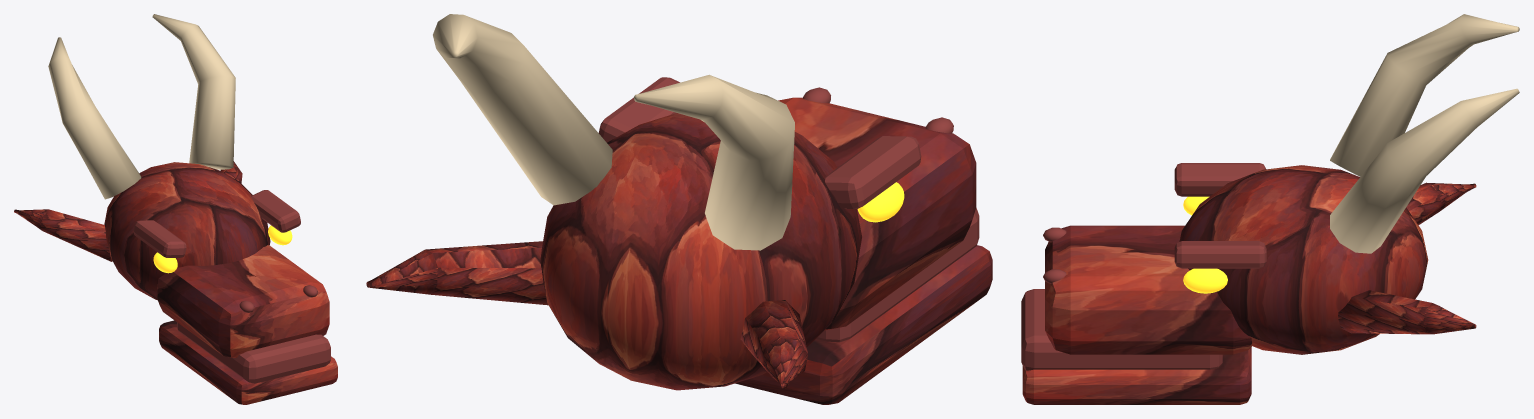
File: dragon_head.glb
The picture shows the model from 3 angles, left to right: view 1: azimuth 30°, elevation 25°; view 2: azimuth 150°, elevation 25°; view 3: azimuth 270°, elevation 25°; orthographic projection. The views are drawn at different scales.
Parts seen in each view (by area): view 1: Sculpted dragon skull, Rounded long muzzle, Curled broad ivory horn.001, Curled broad ivory horn, Rounded lower jaw, Open dark mouth, Swept jaw frill, Strong dragon brow.001, Strong dragon brow, Fiery almond dragon eye, Fiery almond dragon eye.001; view 2: Sculpted dragon skull, Rounded long muzzle, Curled broad ivory horn.001, Curled broad ivory horn, Rounded lower jaw, Swept jaw frill.001, Strong dragon brow, Swept jaw frill, Open dark mouth, Strong dragon brow.001, Fiery almond dragon eye; view 3: Sculpted dragon skull, Rounded long muzzle, Curled broad ivory horn.001, Curled broad ivory horn, Rounded lower jaw, Open dark mouth, Swept jaw frill.001, Strong dragon brow.001, Strong dragon brow, Swept jaw frill, Fiery almond dragon eye.001.
Part boxes in pixels (x1,y1,x2,y2): Sculpted dragon skull: [104, 162, 270, 300]; Rounded long muzzle: [156, 244, 329, 357]; Curled broad ivory horn.001: [152, 14, 235, 169]; Curled broad ivory horn: [48, 37, 141, 199]; Rounded lower jaw: [159, 320, 337, 404]; Open dark mouth: [177, 322, 330, 383]; Swept jaw frill: [14, 209, 112, 261]; Strong dragon brow.001: [251, 190, 300, 232]; Strong dragon brow: [133, 220, 186, 257]; Fiery almond dragon eye: [153, 252, 177, 273]; Fiery almond dragon eye.001: [268, 225, 292, 245]; Sculpted dragon skull: [540, 113, 861, 390]; Rounded long muzzle: [778, 97, 976, 330]; Curled broad ivory horn.001: [433, 14, 612, 205]; Curled broad ivory horn: [634, 74, 794, 250]; Rounded lower jaw: [735, 245, 992, 404]; Swept jaw frill.001: [366, 241, 548, 305]; Strong dragon brow: [825, 136, 921, 208]; Swept jaw frill: [740, 300, 807, 388]; Open dark mouth: [816, 208, 979, 342]; Strong dragon brow.001: [598, 77, 679, 142]; Fiery almond dragon eye: [857, 182, 904, 222]; Sculpted dragon skull: [1179, 165, 1428, 354]; Rounded long muzzle: [1045, 225, 1252, 354]; Curled broad ivory horn.001: [1330, 88, 1519, 253]; Curled broad ivory horn: [1330, 14, 1519, 176]; Rounded lower jaw: [1022, 347, 1251, 404]; Open dark mouth: [1021, 289, 1222, 370]; Swept jaw frill.001: [1338, 290, 1476, 334]; Strong dragon brow.001: [1174, 241, 1266, 268]; Strong dragon brow: [1174, 163, 1265, 196]; Swept jaw frill: [1406, 182, 1476, 225]; Fiery almond dragon eye.001: [1183, 268, 1227, 293].
Bounding box in the file's own units: 1.58 × 1.64 × 2.33.
5 materials, 1 textured.
